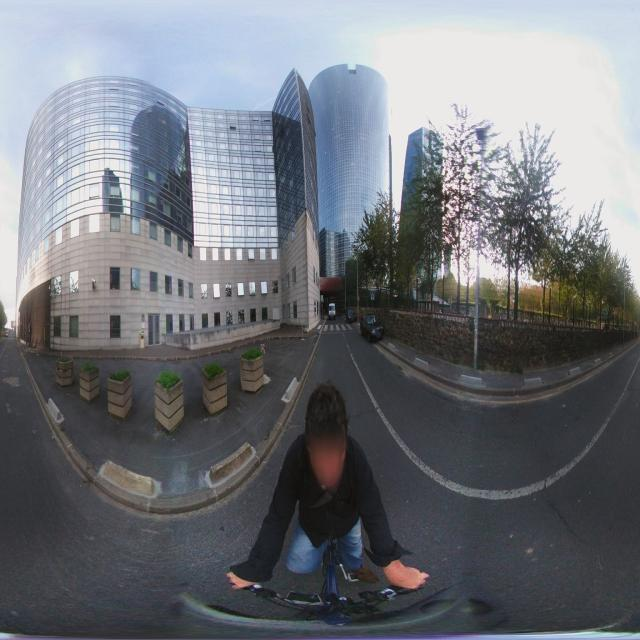car: (346, 307, 356, 323)
